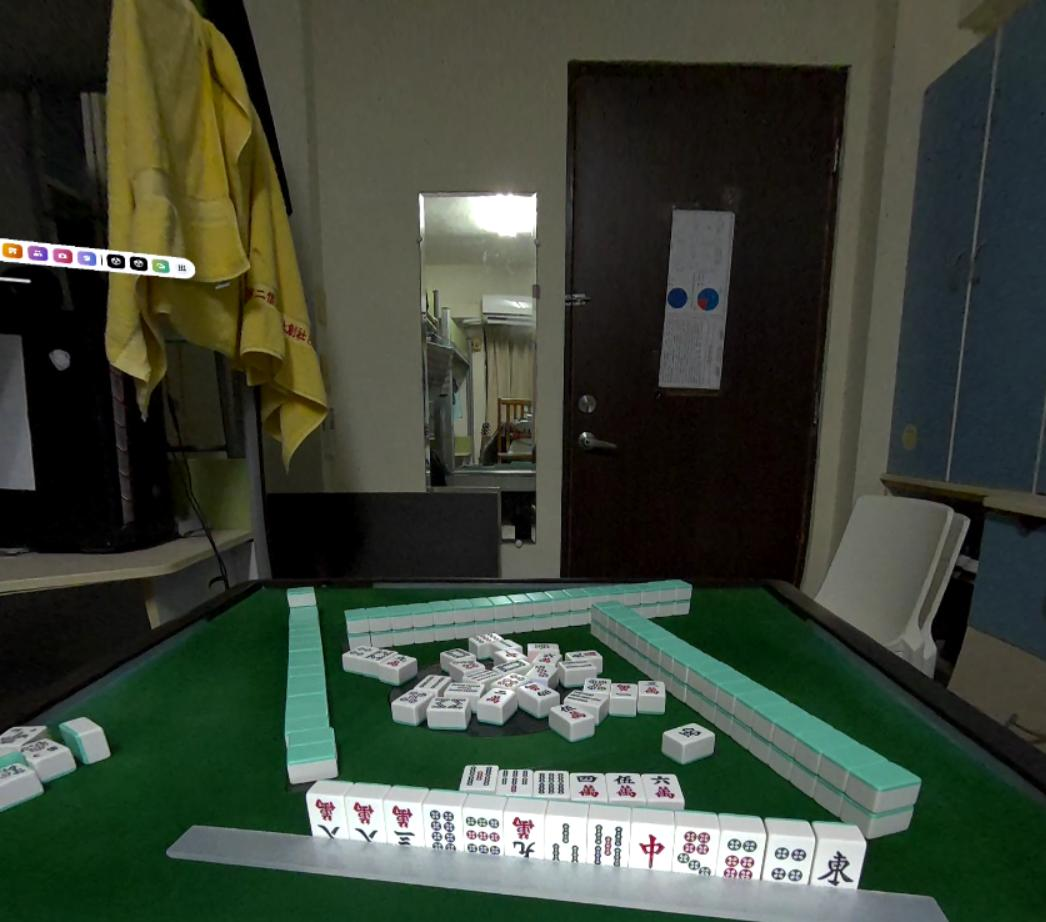mahjong: (816, 836, 868, 887), (633, 820, 677, 877), (723, 830, 770, 881), (547, 813, 588, 869), (587, 819, 630, 872), (769, 835, 810, 889), (460, 805, 500, 860), (307, 796, 354, 837), (386, 796, 422, 847), (344, 792, 381, 840), (681, 827, 714, 880), (419, 802, 454, 850), (509, 812, 545, 857)
